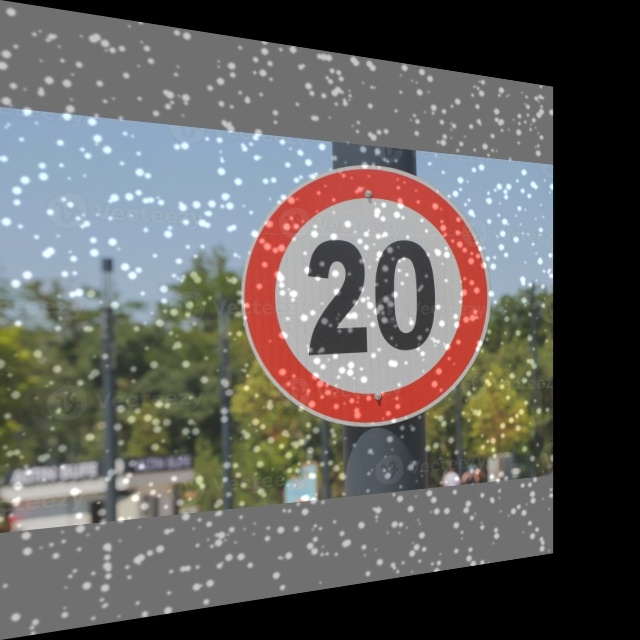Speed_Limit_20: (246, 150, 485, 422)
